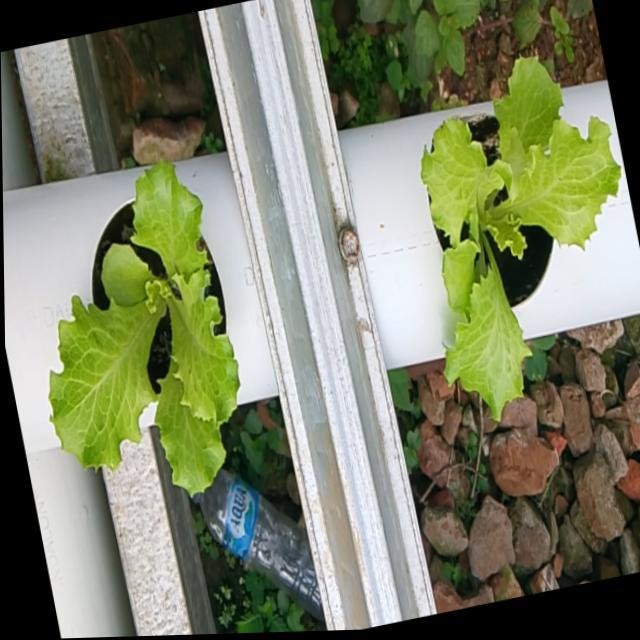Baby: (424, 52, 624, 417), (52, 154, 244, 495)
